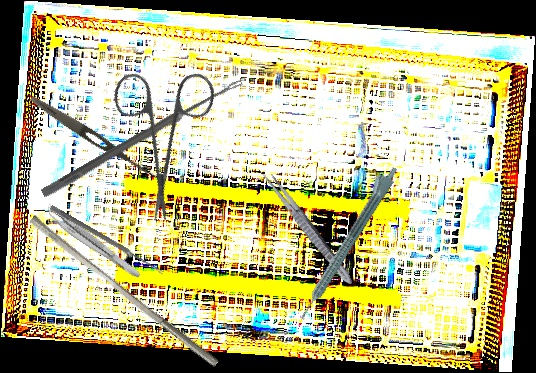Dressing Forceps: (258, 166, 358, 290), (27, 92, 161, 183)
Handpiece: (290, 161, 401, 322)
Iris Scissors: (68, 35, 259, 227)
Pusher: (24, 214, 225, 368)
Surgical Spoon: (40, 75, 244, 200), (49, 204, 165, 276)
Tissue Forceps: (41, 203, 146, 280)
